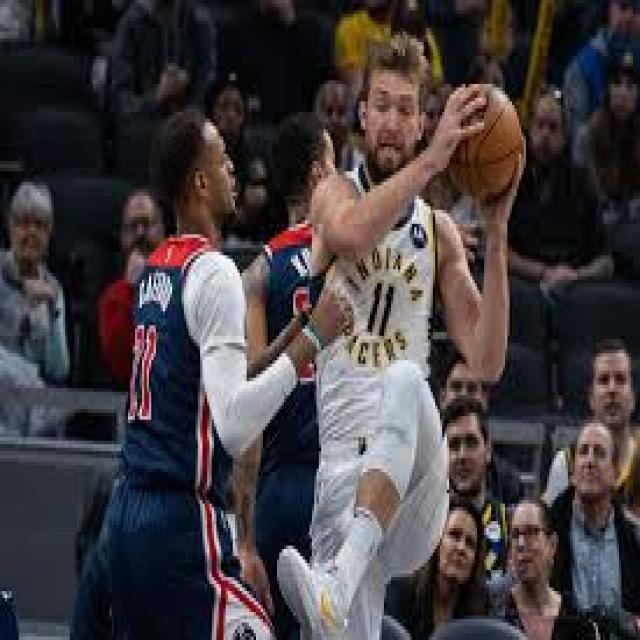rim: (452, 84, 522, 196)
